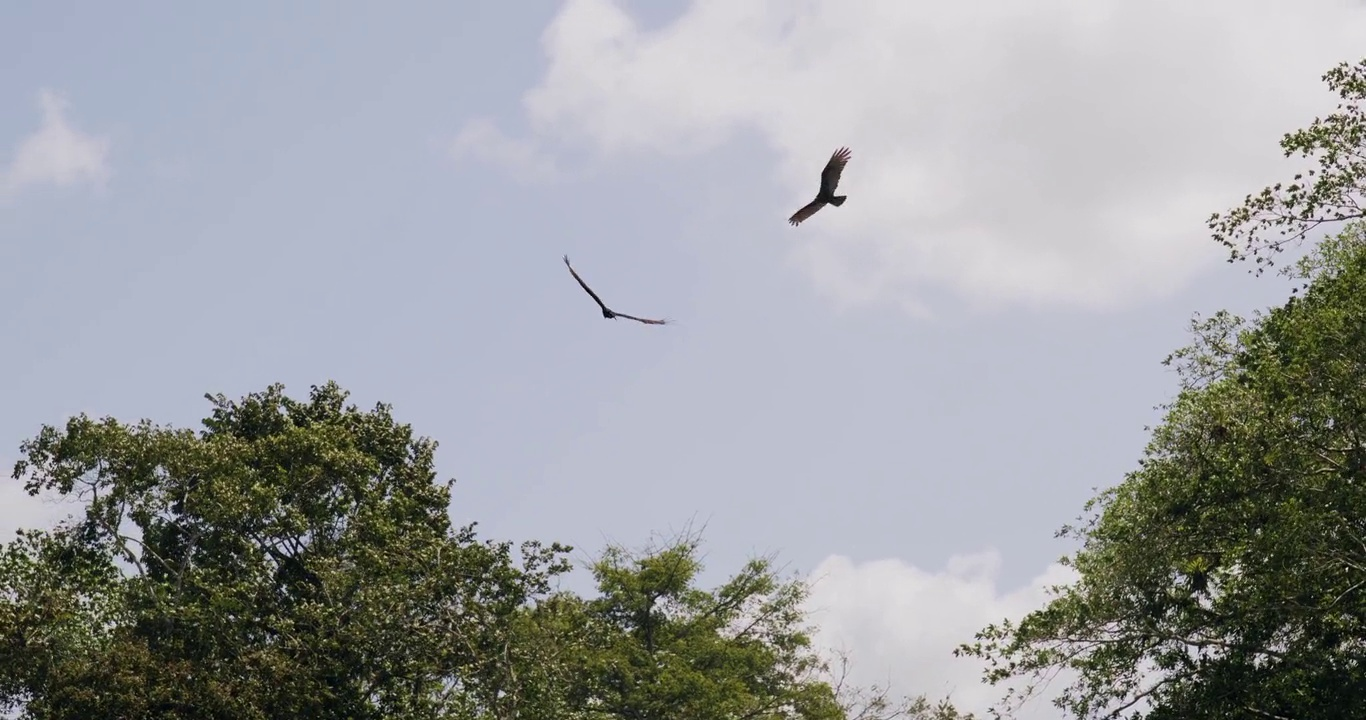bird: (561, 255, 669, 324), (787, 147, 851, 227)
